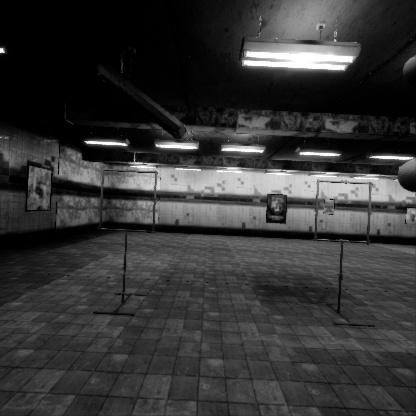gate: (99, 182, 162, 247), (314, 171, 377, 236)
